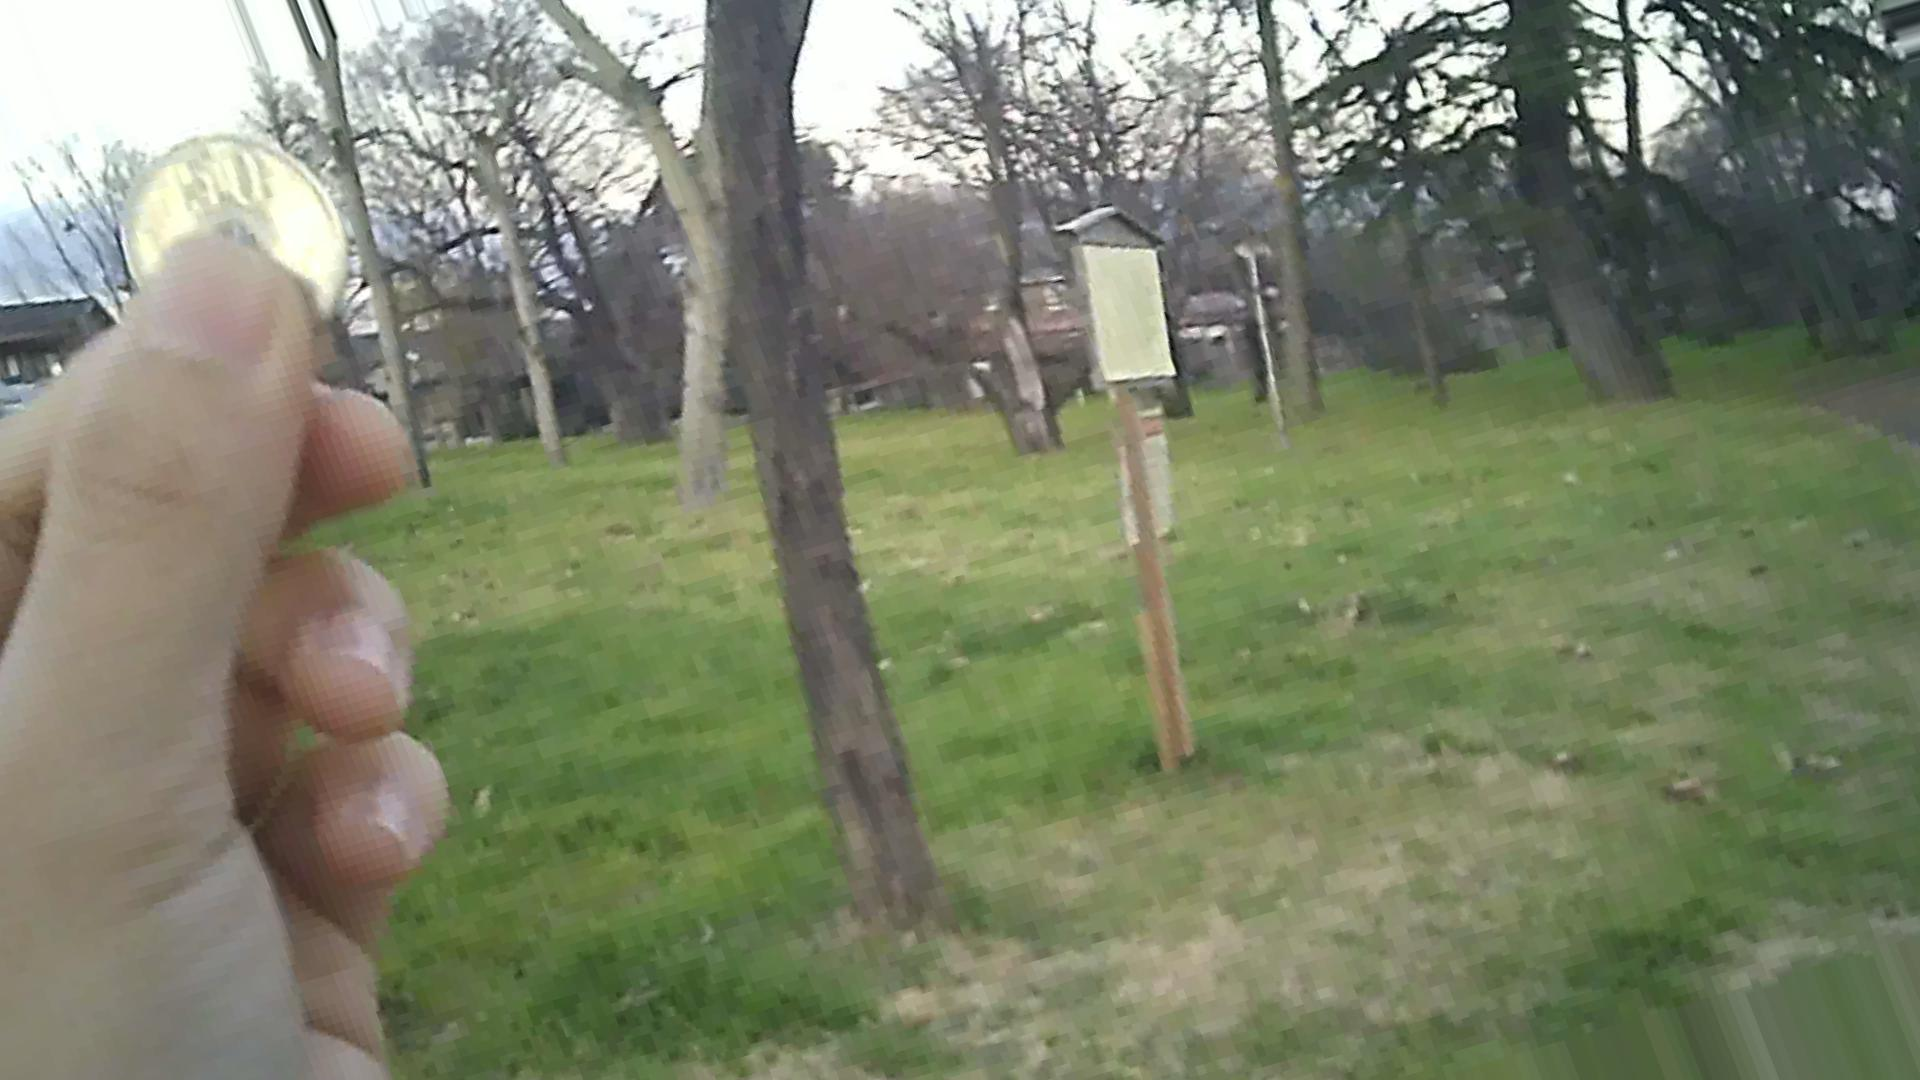50 Yen: (109, 131, 348, 352)
